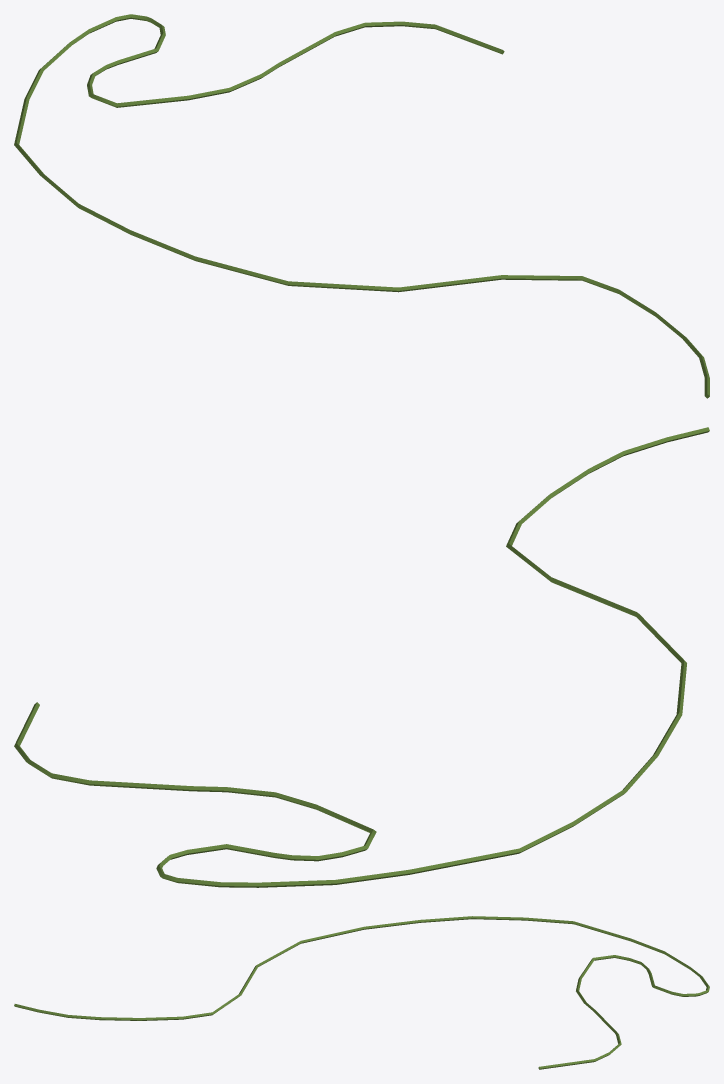
The model's file is SM_liana_ground_04.fbx.
The picture shows the model from 3 angles, top to bottom: view 1: azimuth 30°, elevation 25°; view 2: azimuth 150°, elevation 25°; view 3: azimuth 270°, elevation 25°; orthographic projection. The views are drawn at different scales.
Visible parts, largest first — view 1: Line022; view 2: Line022; view 3: Line022.
Part boxes in pixels (x1=…): Line022: x1=14, y1=14, x2=709, y2=398; Line022: x1=14, y1=427, x2=709, y2=887; Line022: x1=14, y1=916, x2=709, y2=1069.
Size of the model in its own units: 217 by 2.03 by 420.
